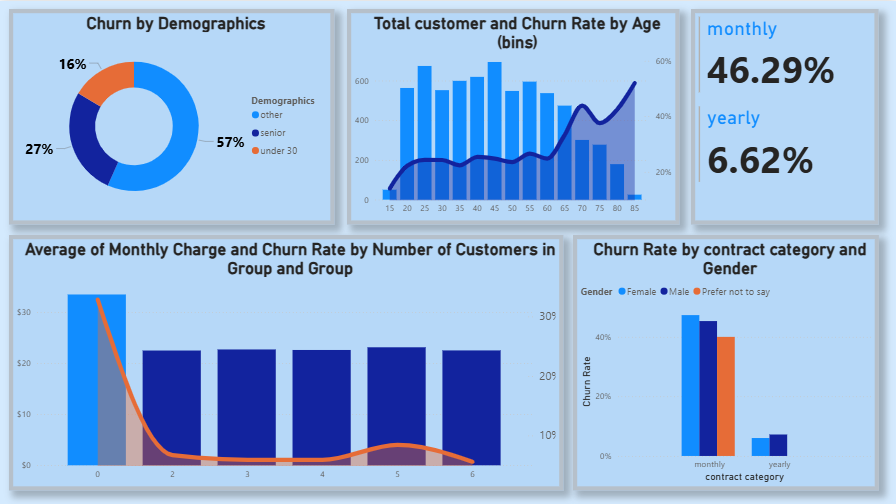

This screenshot's page, from the dashboard's own definition file:
{"tool":"powerbi","page":{"name":"Groups and Category","canvas":[1280,720],"ordinal":1},"visuals":[{"type":"donutChart","title":"Churn by Demographics","fields":{"Category":["Databel - Data.Demographics"],"Y":["Databel - Data.Num of Churn"]},"box":[13.3,11.7,465,308.3],"z":0},{"type":"lineStackedColumnComboChart","fields":{"Y":["Databel - Data.Total customer"],"Y2":["Databel - Data.Churn Rate"],"Category":["Databel - Data.Age (bins)"]},"box":[495,11.7,475,308.3],"z":1000},{"type":"multiRowCard","fields":{"Values":["Databel - Data.contract category","Databel - Data.Churn Rate"]},"box":[986.7,11.7,268.3,308.3],"z":2000},{"type":"lineStackedColumnComboChart","fields":{"Y":["Avg(Databel - Data.Monthly Charge)"],"Category":["Databel - Data.Number of Customers in Group"],"Y2":["Databel - Data.Churn Rate"],"Series":["Databel - Data.Group"]},"box":[13.3,335,791.7,365],"z":3000},{"type":"clusteredColumnChart","fields":{"Category":["Databel - Data.contract category"],"Y":["Databel - Data.Churn Rate"],"Series":["Databel - Data.Gender"]},"box":[818.3,335,436.7,365],"z":4000}]}

Visuals, with their boxes in screenshot pixels (x1, y1, x2, y2), scaled from the page's 1280x720 canvas onto the 896x504 screenshot:
"Churn by Demographics" donutChart: {"left": 9, "top": 8, "right": 335, "bottom": 224}
lineStackedColumnComboChart - Databel - Data.Total customer x Databel - Data.Churn Rate: {"left": 346, "top": 8, "right": 679, "bottom": 224}
multiRowCard - Databel - Data.contract category x Databel - Data.Churn Rate: {"left": 691, "top": 8, "right": 878, "bottom": 224}
lineStackedColumnComboChart - Avg(Databel - Data.Monthly Charge) x Databel - Data.Number of Customers in Group: {"left": 9, "top": 234, "right": 564, "bottom": 490}
clusteredColumnChart - Databel - Data.contract category x Databel - Data.Churn Rate: {"left": 573, "top": 234, "right": 878, "bottom": 490}
